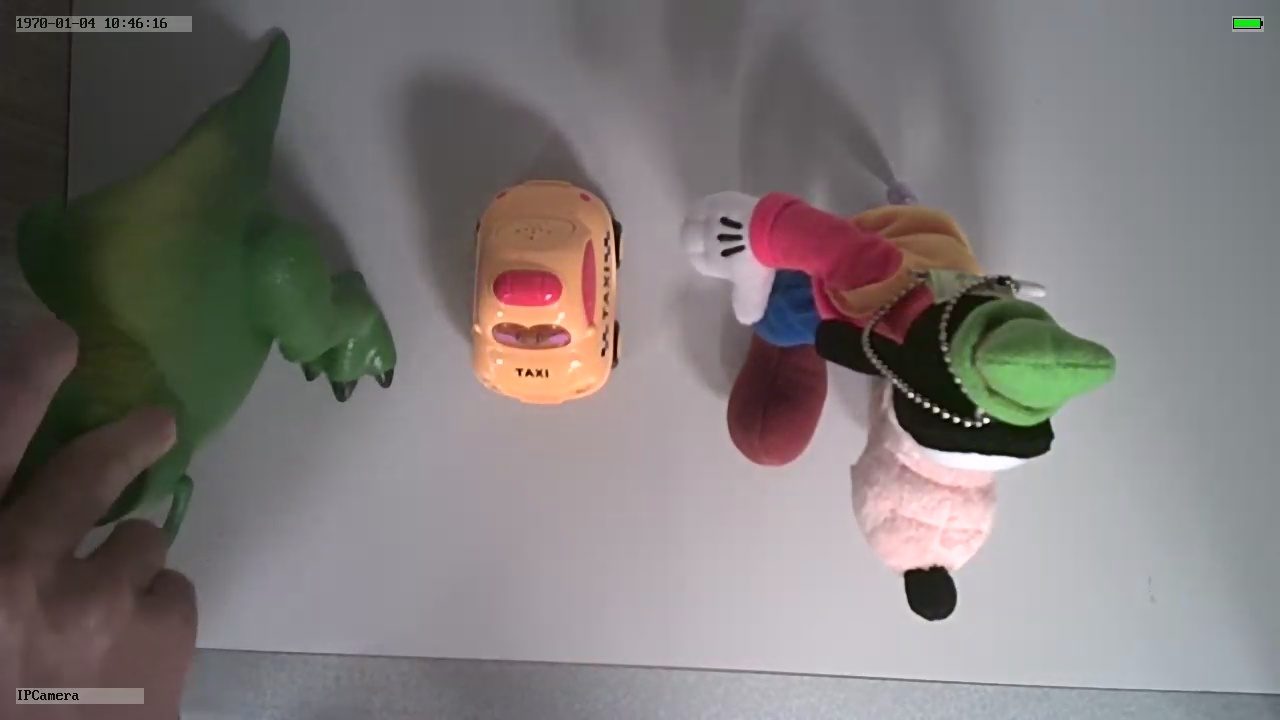car: (462, 169, 626, 405)
goofy: (678, 181, 1120, 631)
